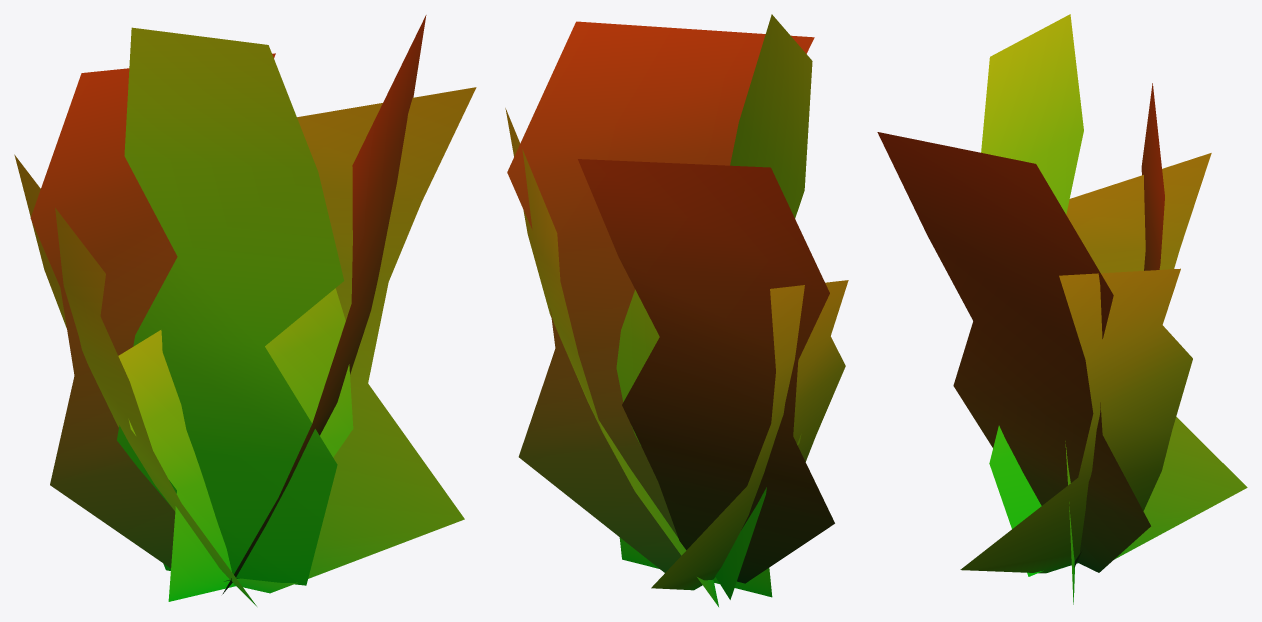
The model's file is Var8Hi52.fbx.
3 renders of one model, left to right at view 1: azimuth 30°, elevation 25°; view 2: azimuth 150°, elevation 25°; view 3: azimuth 270°, elevation 25°, orthographic. The views are drawn at different scales.
Visible parts, largest first — view 1: bend1; view 2: bend1; view 3: bend1.
Boxes of the visible parts, left/top/right/bottom form: bend1: left=14, top=15, right=476, bottom=606; bend1: left=505, top=14, right=848, bottom=606; bend1: left=877, top=14, right=1247, bottom=604.
Size of the model in its own units: 1.26 by 1.77 by 1.17.
